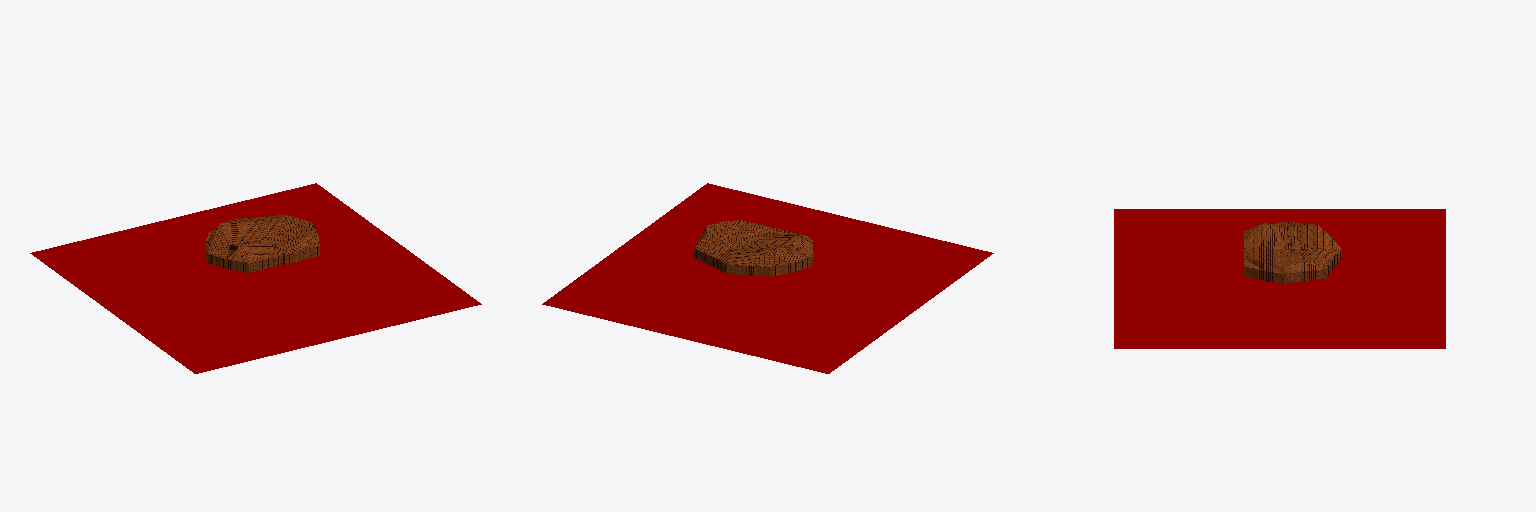
3 renders of one model, left to right at view 1: azimuth 30°, elevation 25°; view 2: azimuth 150°, elevation 25°; view 3: azimuth 270°, elevation 25°, orthographic.
Visible parts, largest first — view 1: Plane, Cube.012_Cube.017; view 2: Plane, Cube.012_Cube.017; view 3: Plane, Cube.012_Cube.017.
Part boxes in pixels (left/top/right/bottom): Plane: left=30, top=183, right=481, bottom=373; Cube.012_Cube.017: left=205, top=215, right=319, bottom=272; Plane: left=542, top=183, right=993, bottom=373; Cube.012_Cube.017: left=694, top=220, right=813, bottom=276; Plane: left=1114, top=209, right=1445, bottom=348; Cube.012_Cube.017: left=1244, top=222, right=1341, bottom=283.
Size of the model in its own units: 93.82 by 14.22 by 93.82.
2 materials, 1 textured.